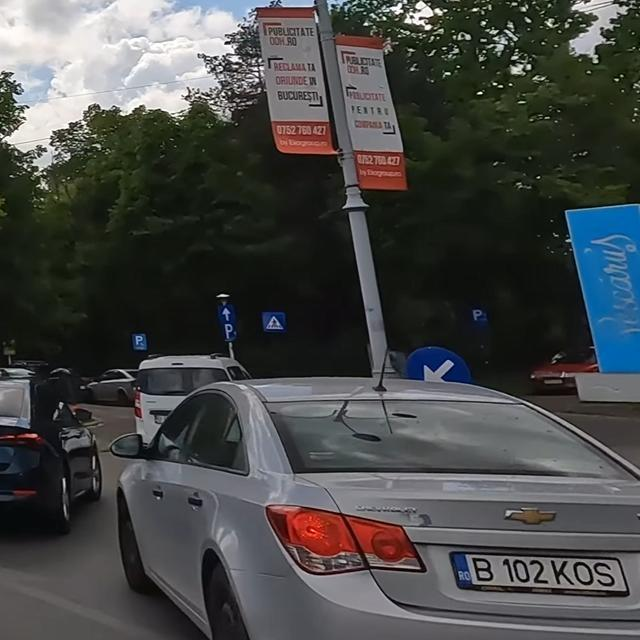info_crosswalk: (261, 310, 288, 335)
